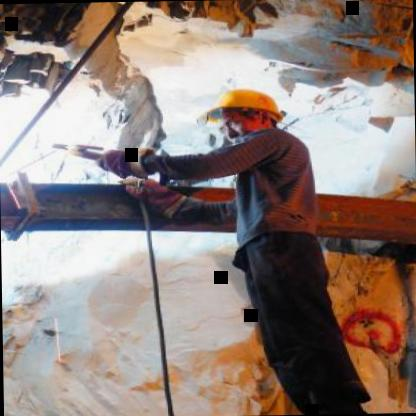helmet: (203, 80, 295, 144)
